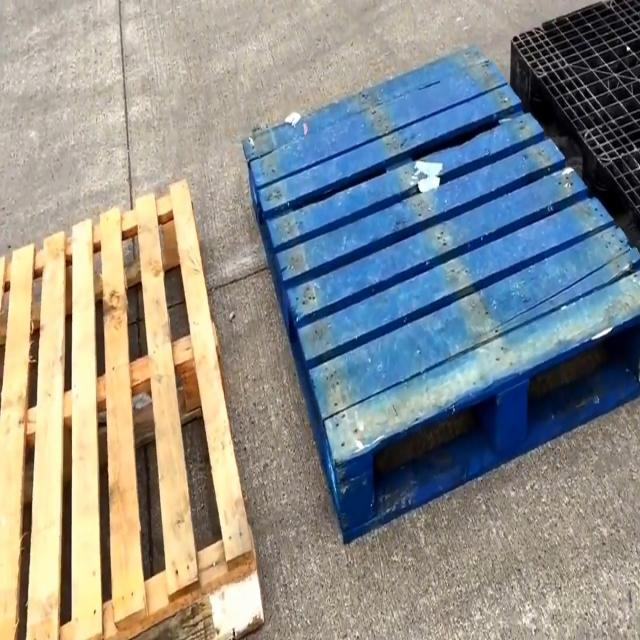Palette: (208, 40, 640, 553), (0, 171, 268, 640), (505, 0, 640, 247)
